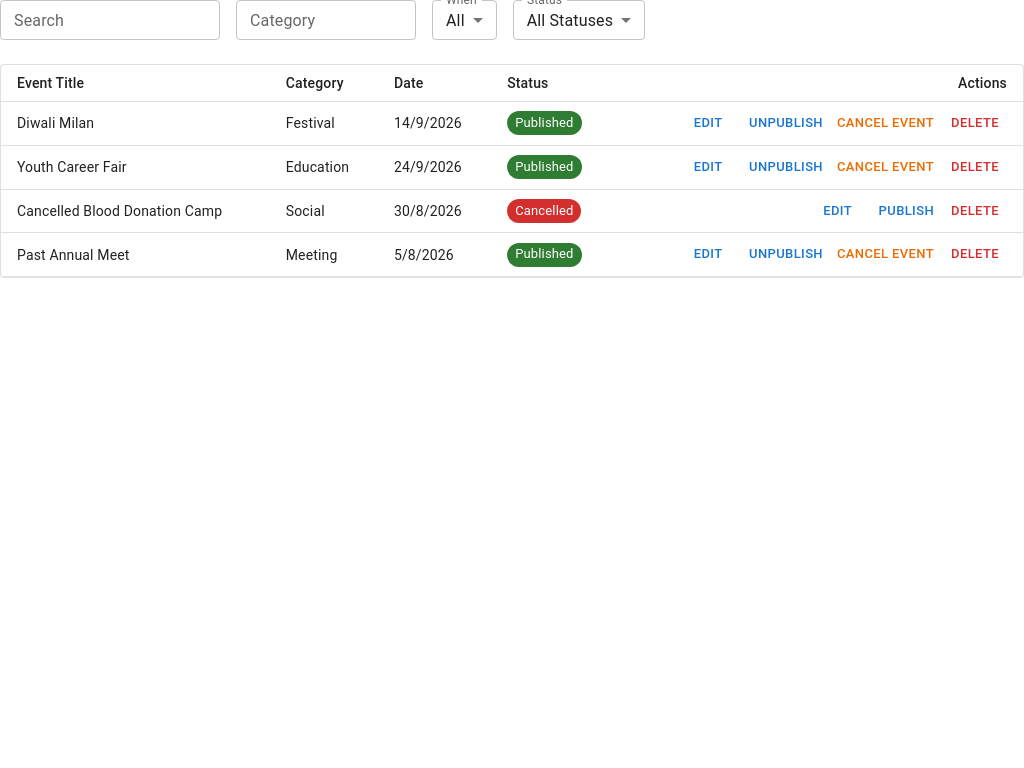
Scenario: ManageEventsTab › deletes an event after confirmation
Expected: the text "Cancelled Blood Donation Camp" is shown, [1,189,270,233]
Click the button "Delete" in the row of "Cancelled Blood Donation Camp": click(975, 211) [943,196,1007,226]
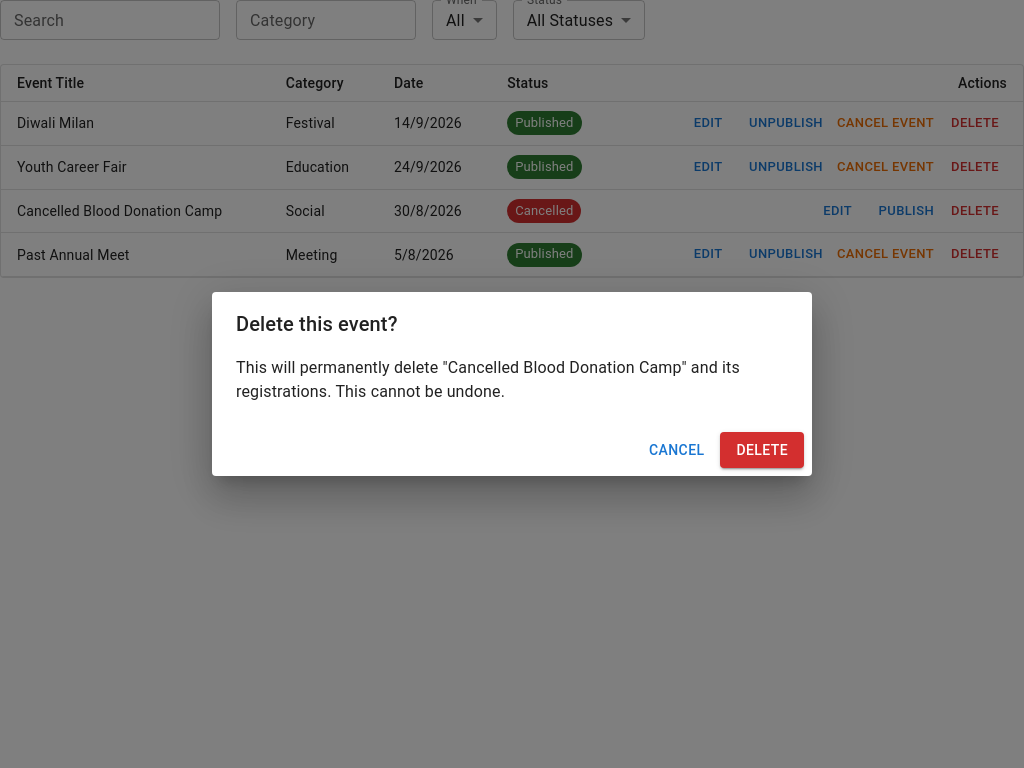
Click the button "Delete": click(762, 450) [720,432,804,468]
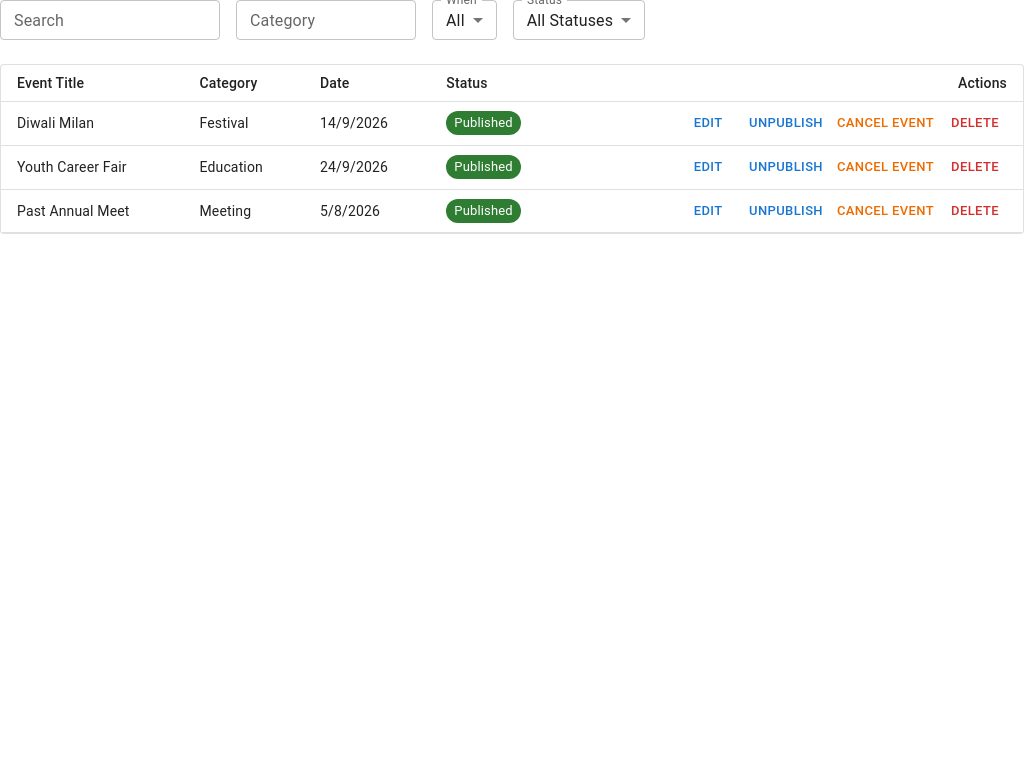
Now the text "Cancelled Blood Donation Camp" is gone
